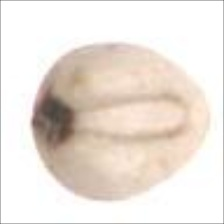L5: (71, 91, 196, 140), (26, 83, 77, 157), (196, 85, 218, 155)
L6: (30, 41, 214, 205)
